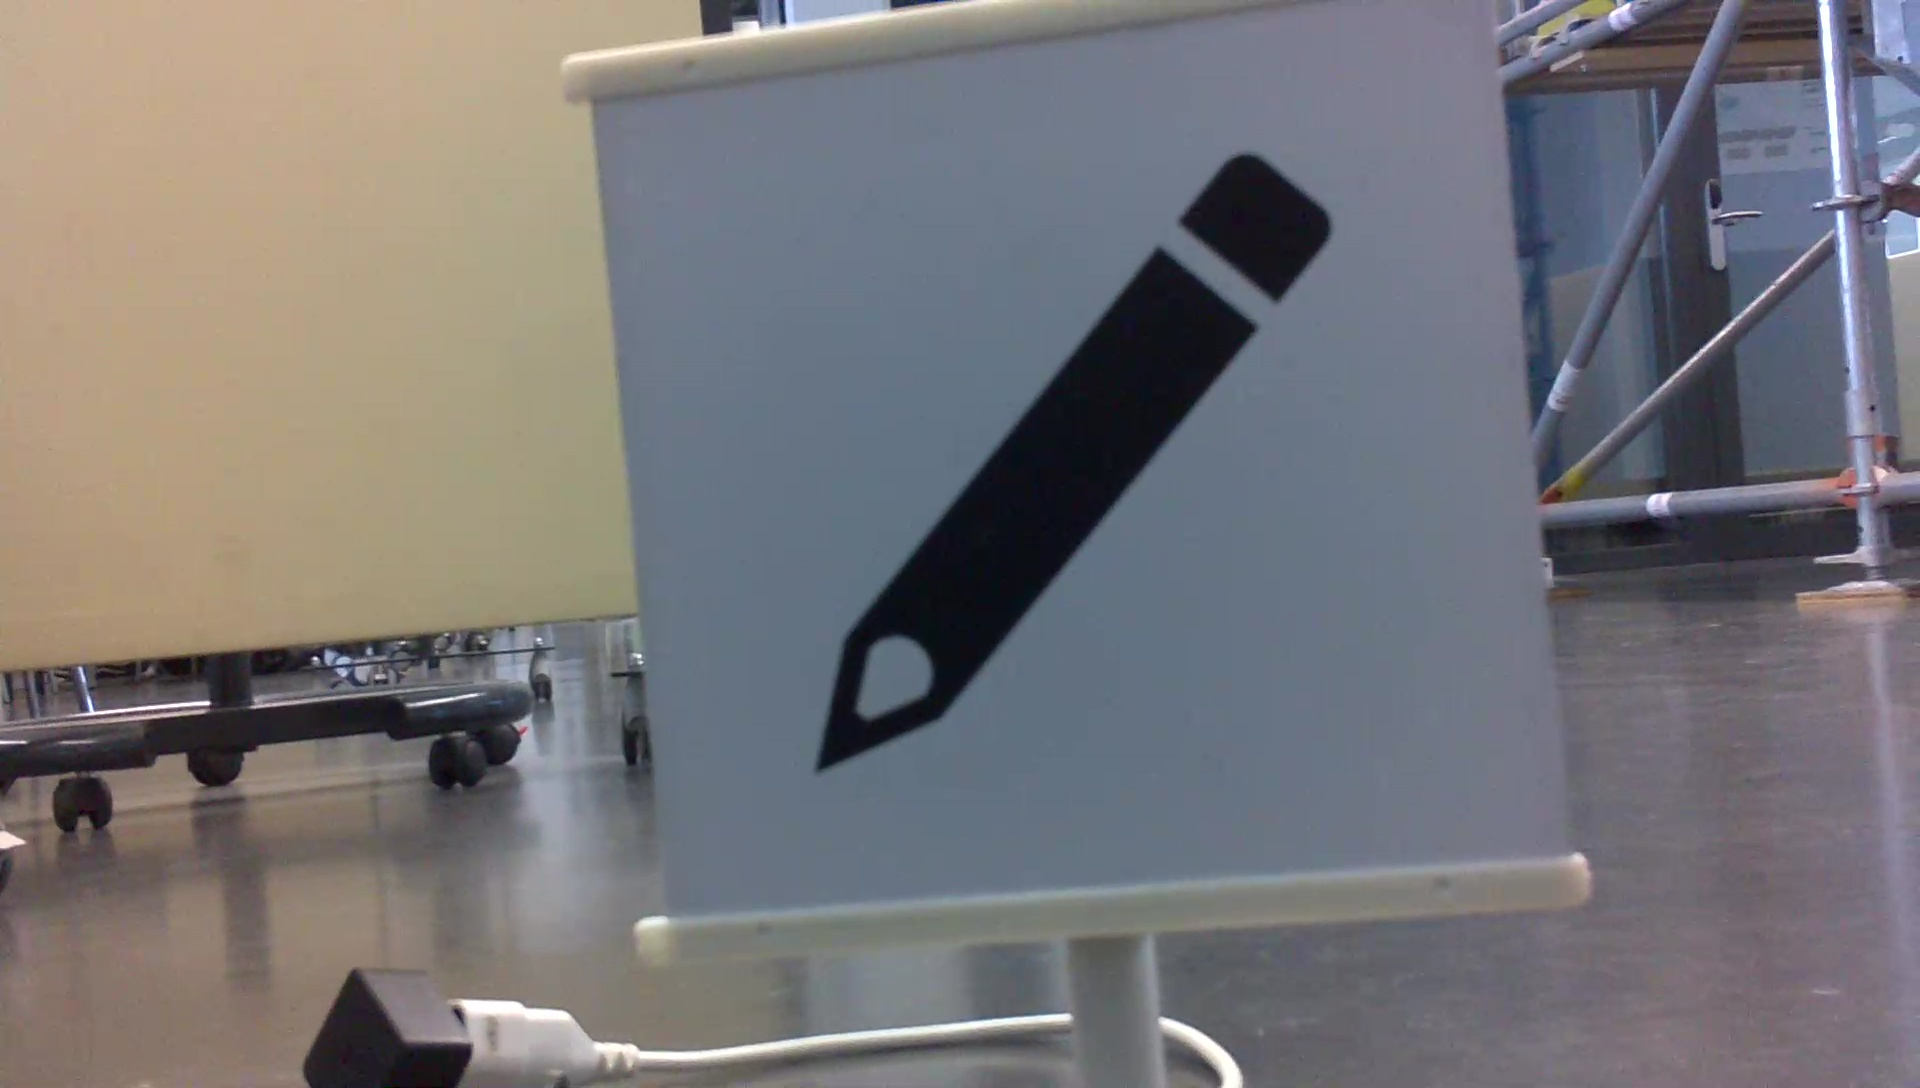pencil: (791, 132, 1356, 790)
